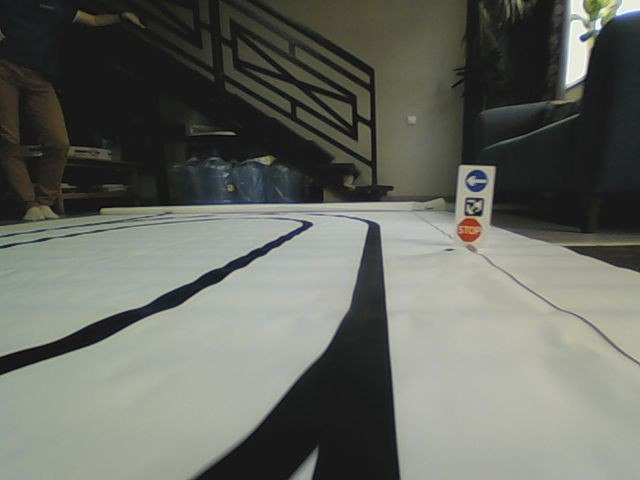Stop: (455, 217, 483, 243)
